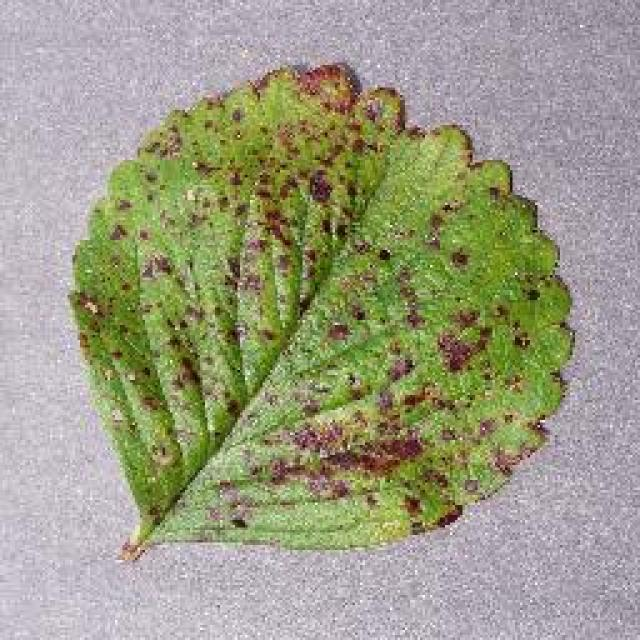Strawberry leaf scorch: (162, 80, 533, 562)
